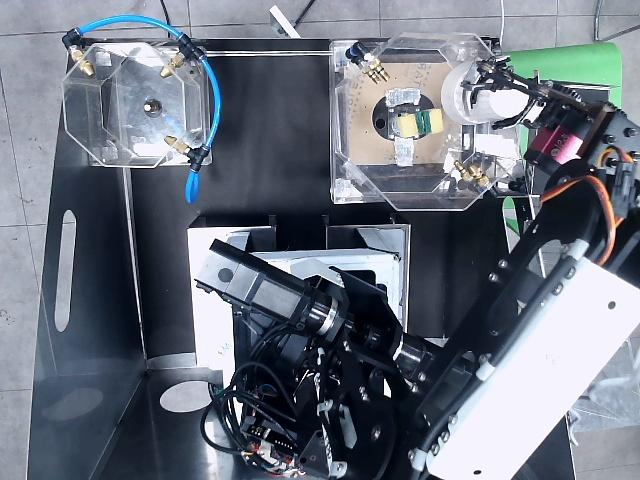cup: (441, 62, 528, 124)
